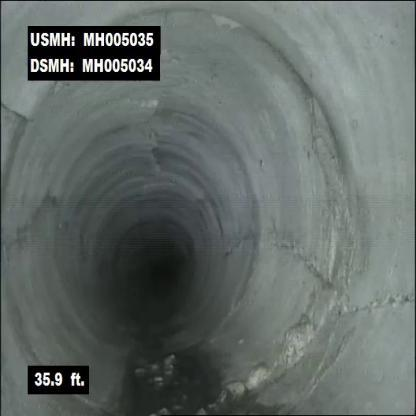circle2: (132, 254, 167, 292)
